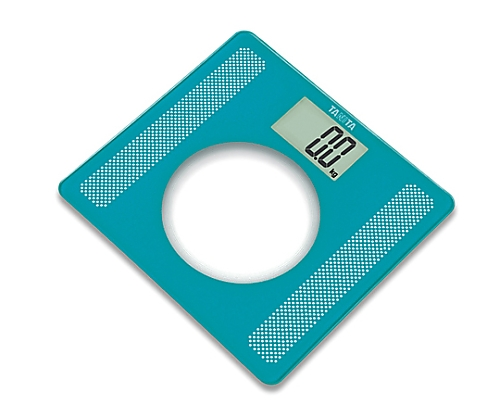LCD: (273, 96, 369, 182)
